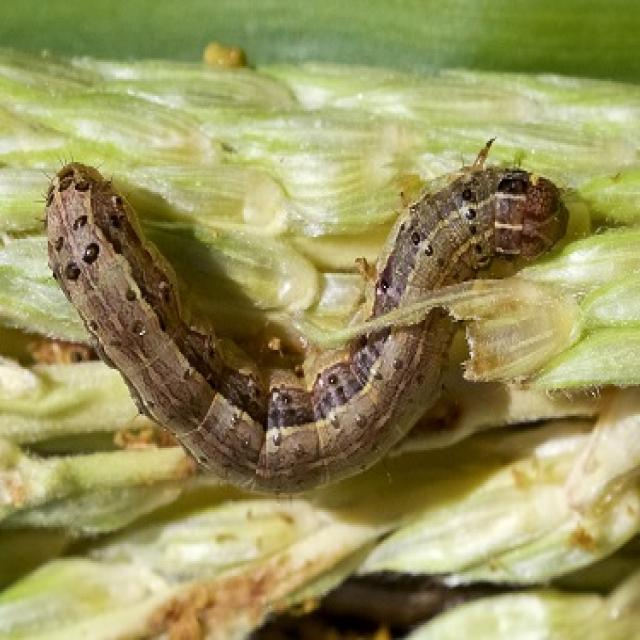worm: (40, 138, 573, 498)
